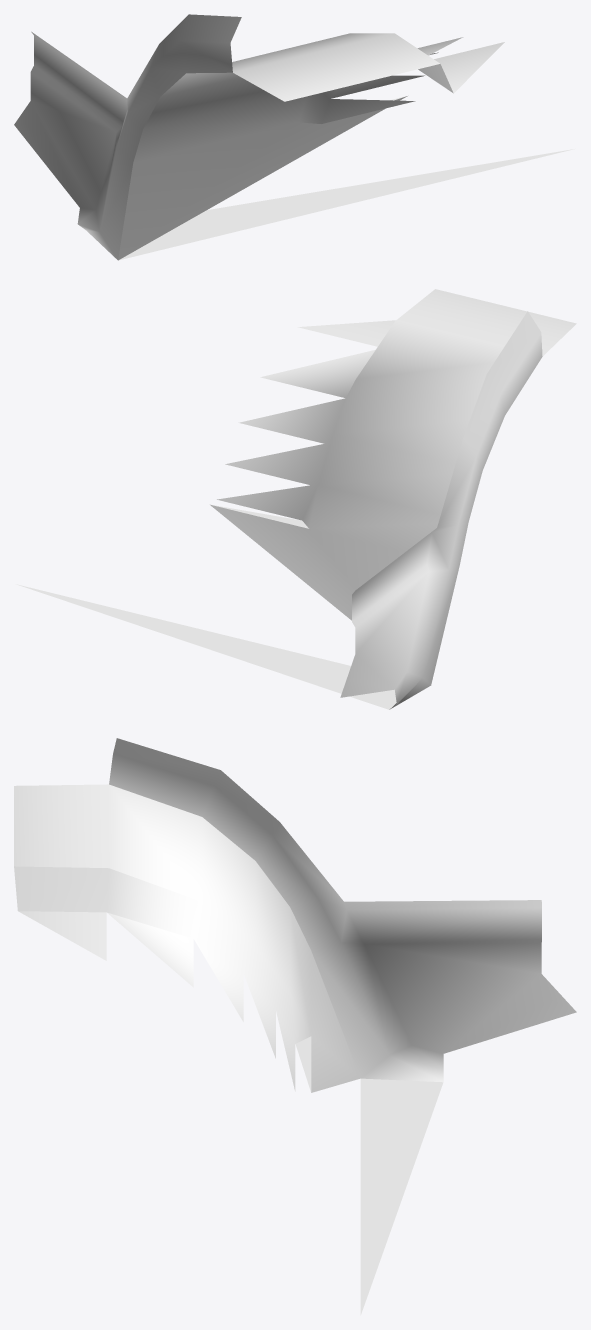
The picture shows the model from 3 angles, top to bottom: view 1: azimuth 30°, elevation 25°; view 2: azimuth 150°, elevation 25°; view 3: azimuth 270°, elevation 25°; orthographic projection. The views are drawn at different scales.
Bounding box in the file's own units: 0.6306 × 0.418 × 0.6179.
Materials: 1 (1 with a texture image).
